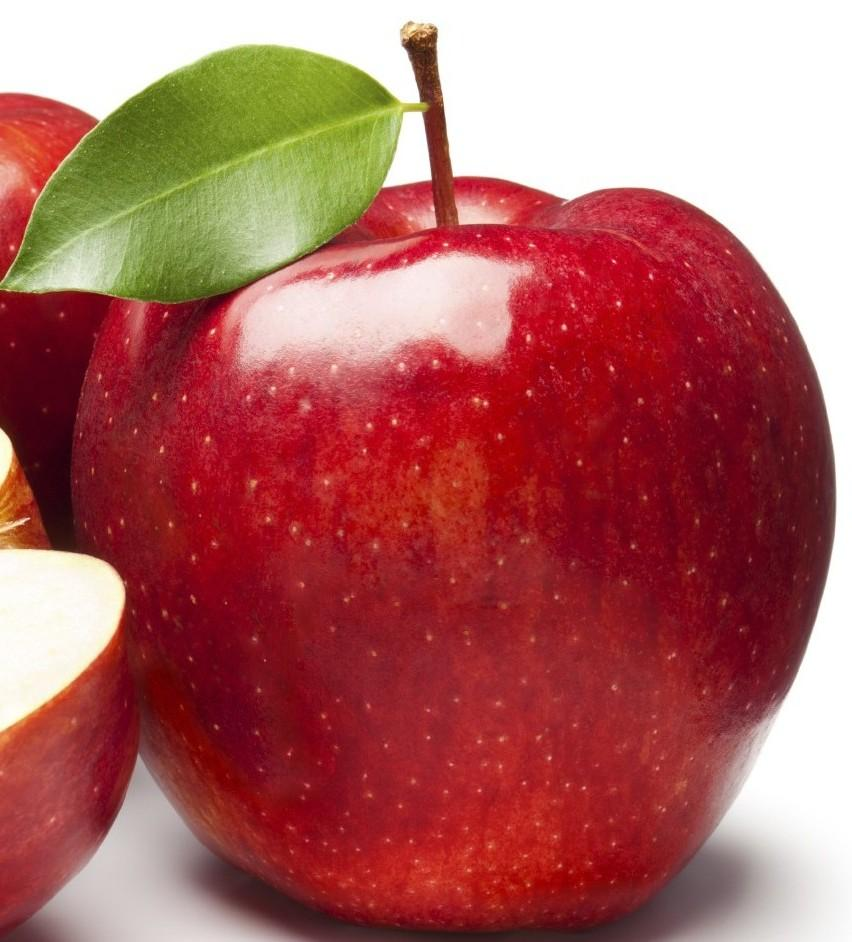apple: (41, 53, 838, 942)
